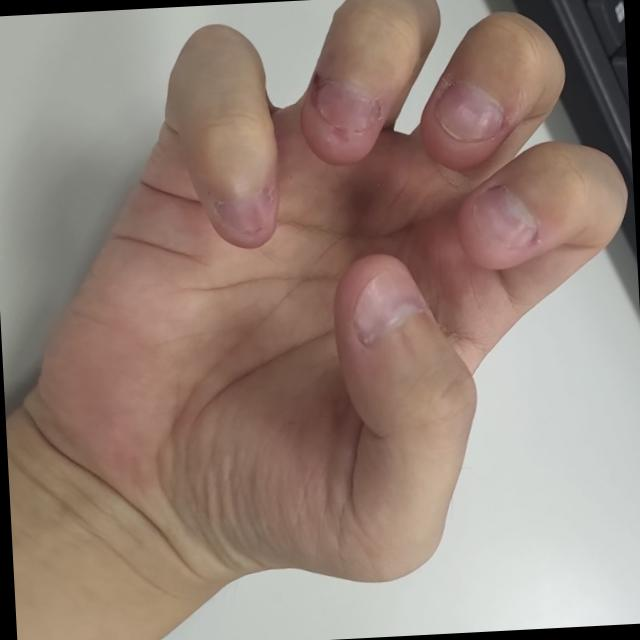Nail: (301, 74, 381, 163), (457, 184, 540, 269), (353, 261, 426, 346), (208, 180, 277, 248), (435, 80, 504, 142)
